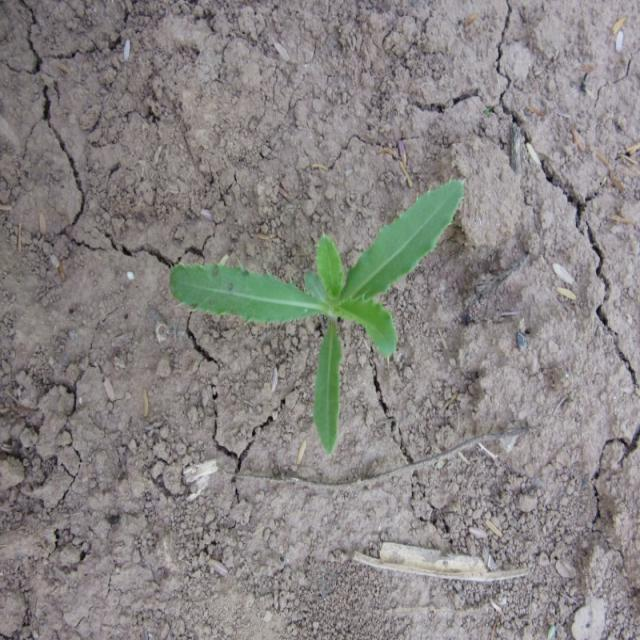field_thistle: (170, 159, 454, 449)
